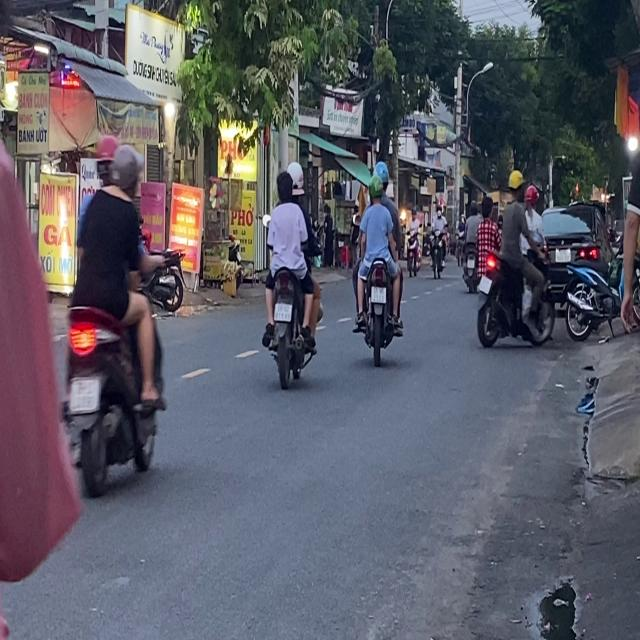helmet: (110, 142, 142, 197), (92, 134, 118, 186), (286, 160, 304, 191), (508, 169, 524, 198), (368, 175, 384, 203), (372, 160, 388, 184), (524, 183, 538, 210)
licenseplate: (59, 132, 167, 499), (476, 169, 558, 353), (260, 161, 322, 387), (351, 160, 405, 363)
motorcyclist: (274, 168, 292, 202)
nohelmet: (69, 377, 99, 412), (274, 302, 291, 321), (371, 286, 386, 302)
